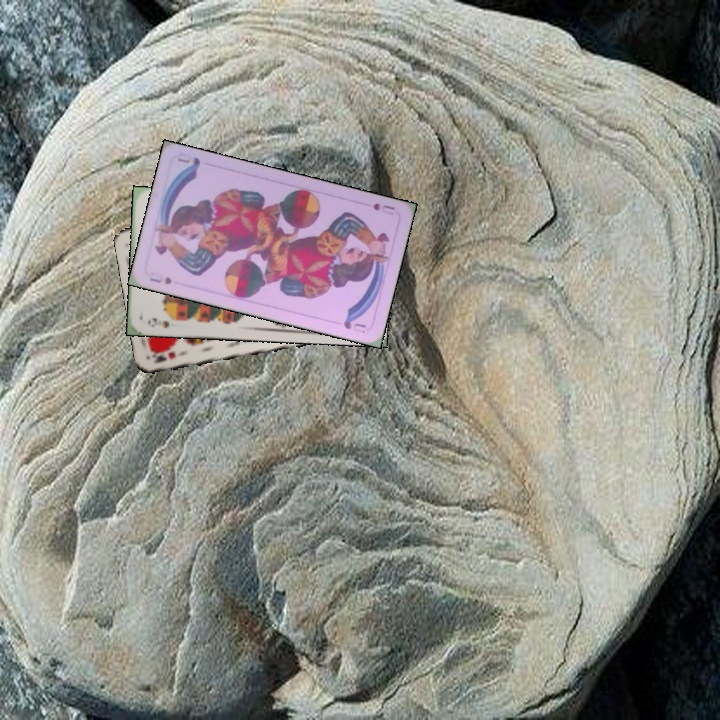HK: (148, 347, 178, 366)
S9: (143, 312, 183, 331)
SU: (145, 271, 174, 287), (368, 199, 397, 213)
